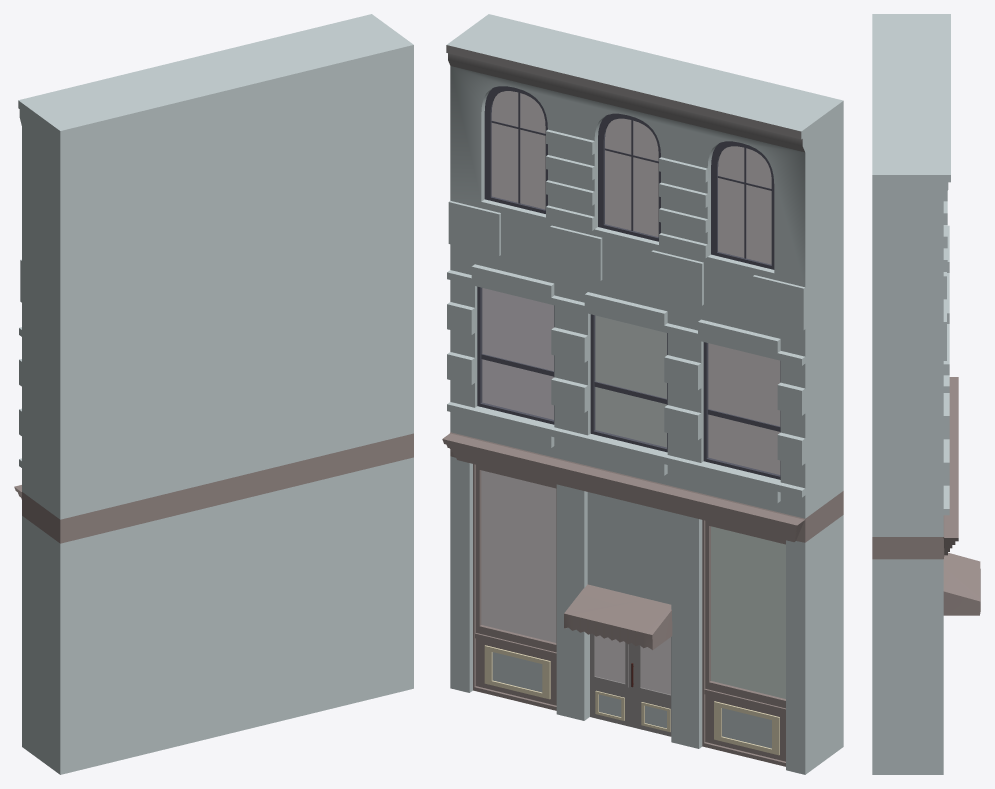
The picture shows the model from 3 angles, left to right: view 1: azimuth 30°, elevation 25°; view 2: azimuth 150°, elevation 25°; view 3: azimuth 270°, elevation 25°; orthographic projection. The views are drawn at different scales.
Parts seen in each view (by area): view 1: RDC006; view 2: RDC006; view 3: RDC006.
Part boxes in pixels (x1,y1,x2,y2): RDC006: (14,14,413,774); RDC006: (442,14,843,774); RDC006: (872,14,980,774).
Size of the model in its own units: 315 by 548 by 89.54.
